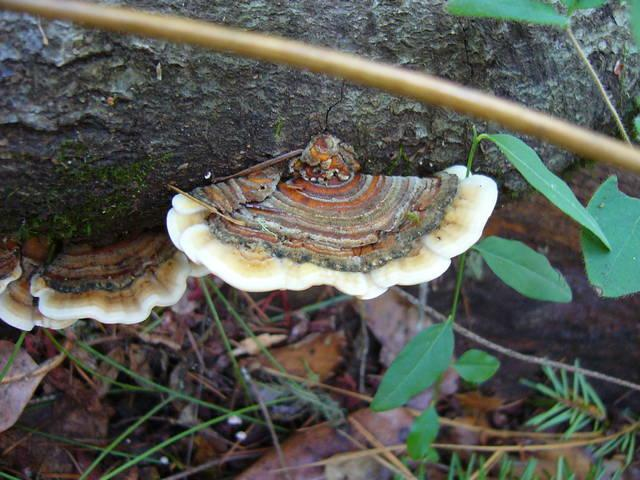Non-edible Mushroom: (164, 131, 498, 300), (0, 228, 196, 332)
